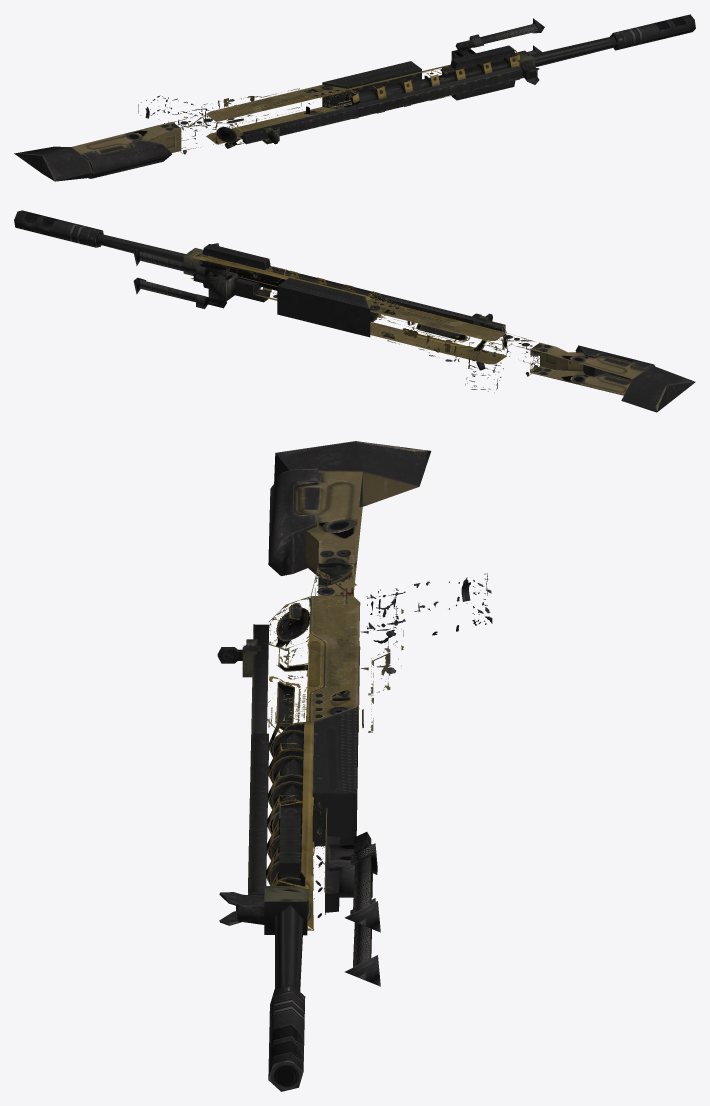
The model's file is t6_wpn_sniper_ballista_world_LOD1.obj.
3 renders of one model, top to bottom at view 1: azimuth 30°, elevation 25°; view 2: azimuth 150°, elevation 25°; view 3: azimuth 270°, elevation 25°, orthographic. The views are drawn at different scales.
Parts seen in each view (by area): view 1: mtl_t6_wpn_sniper_ballista_camo2, mtl_t6_wpn_sniper_ballista_camo1, mtl_t6_wpn_sniper_ballista_camo3, mtl_t6_wpn_sniper_ballista_sights; view 2: mtl_t6_wpn_sniper_ballista_camo1, mtl_t6_wpn_sniper_ballista_camo2, mtl_t6_wpn_sniper_ballista_camo3, mtl_t6_wpn_sniper_ballista_sights; view 3: mtl_t6_wpn_sniper_ballista_camo1, mtl_t6_wpn_sniper_ballista_camo2, mtl_t6_wpn_sniper_ballista_camo3, mtl_t6_wpn_sniper_ballista_sights.
Part boxes in pixels (x1,y1,x2,y2): mtl_t6_wpn_sniper_ballista_camo2: (14,14,695,181); mtl_t6_wpn_sniper_ballista_camo1: (72,18,544,154); mtl_t6_wpn_sniper_ballista_camo3: (206,34,519,148); mtl_t6_wpn_sniper_ballista_sights: (262,50,539,144); mtl_t6_wpn_sniper_ballista_camo1: (133,244,643,395); mtl_t6_wpn_sniper_ballista_camo2: (14,210,695,412); mtl_t6_wpn_sniper_ballista_camo3: (191,255,506,370); mtl_t6_wpn_sniper_ballista_sights: (183,243,492,325); mtl_t6_wpn_sniper_ballista_camo1: (248,471,403,986); mtl_t6_wpn_sniper_ballista_camo2: (268,441,492,1091); mtl_t6_wpn_sniper_ballista_camo3: (266,596,377,930); mtl_t6_wpn_sniper_ballista_sights: (217,639,307,935).
Size of the model in its own units: 120 by 8.26 by 22.3.
